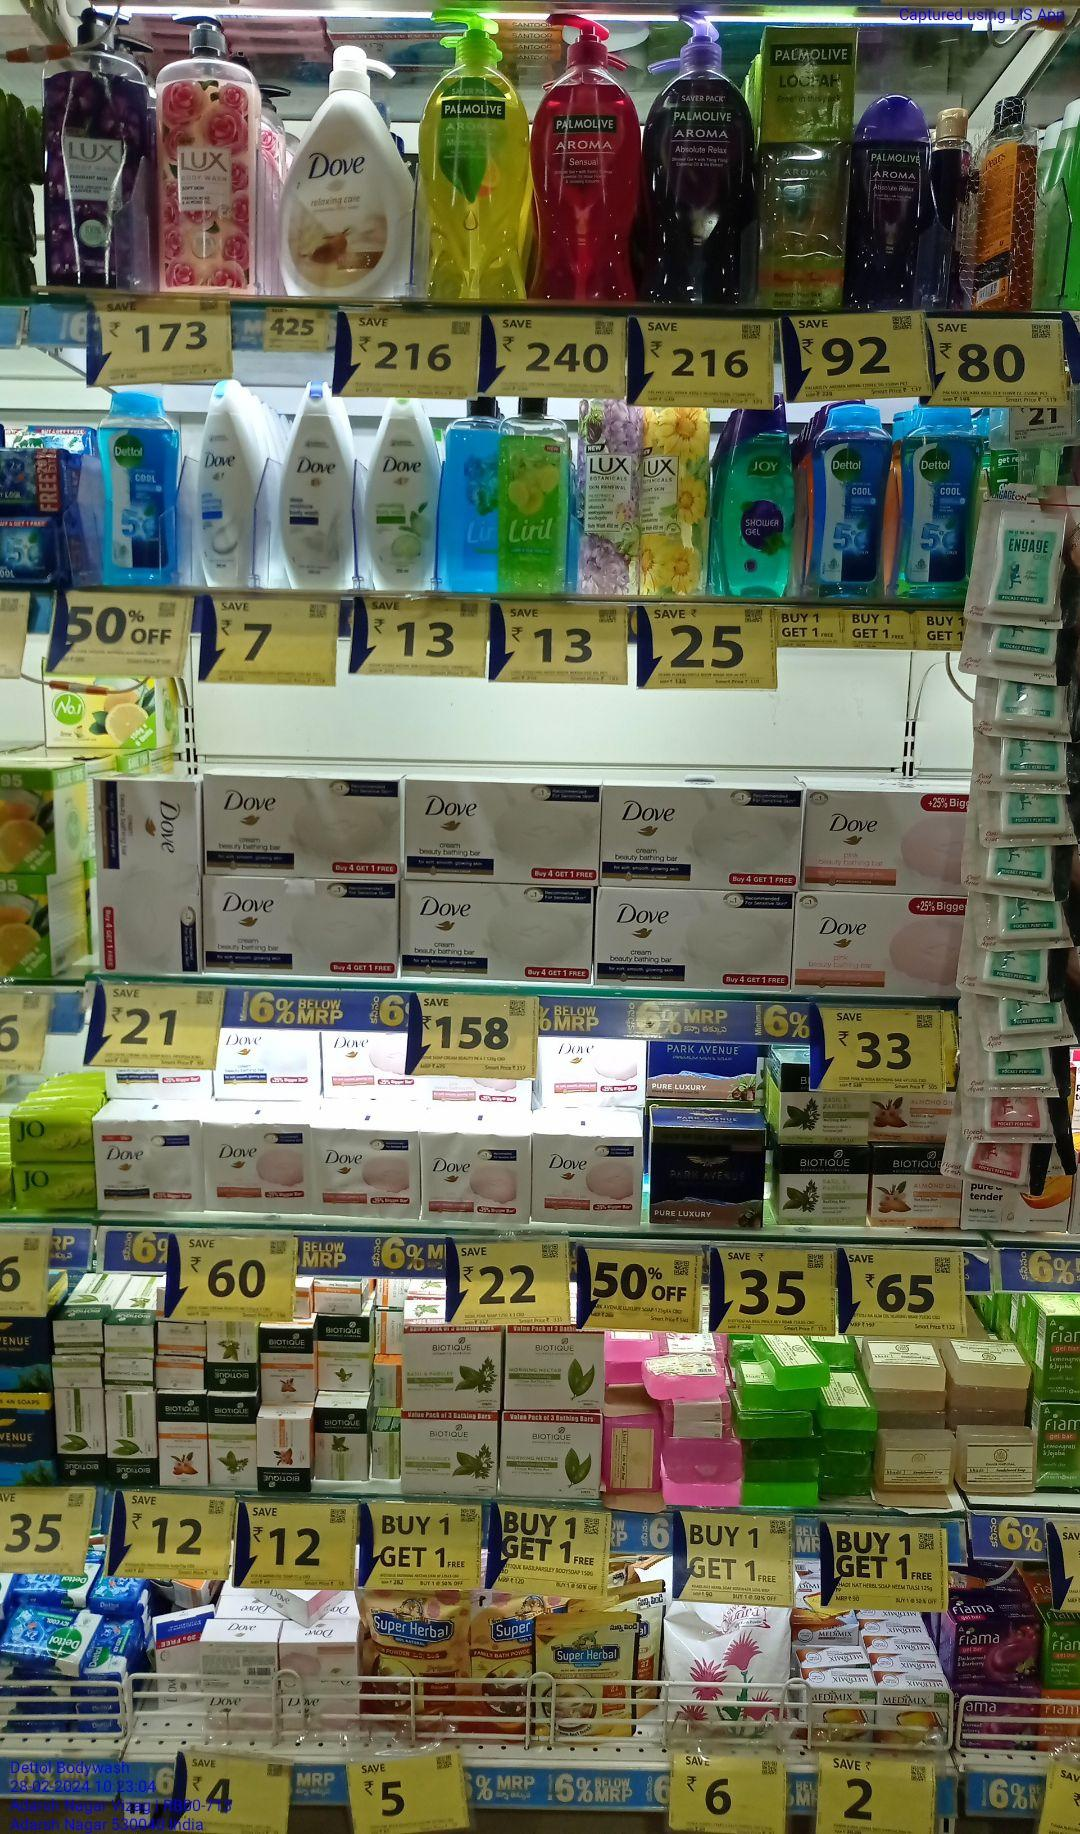Dettol_Bodywash_Cool: (96, 391, 177, 591), (813, 404, 886, 607), (901, 402, 973, 605)
Dove_Deep_Moisture_Body_Wash_250ML: (279, 377, 352, 592)
Dove_Gentle_Exfoliating_Body_Wash_250ML: (198, 379, 265, 596)
Dove_Refreshing_Body_Wash_250ML: (363, 396, 442, 590)
Joy_Shower_Gel_Mint_and_Eucalyptus_250ML: (723, 391, 797, 601)
Liril_Lime_and_Tea_Tree_Oil_Body_Wash_250ML: (495, 389, 567, 604)
Palmolive_Aroma_Relax_250ML: (854, 87, 928, 311)
